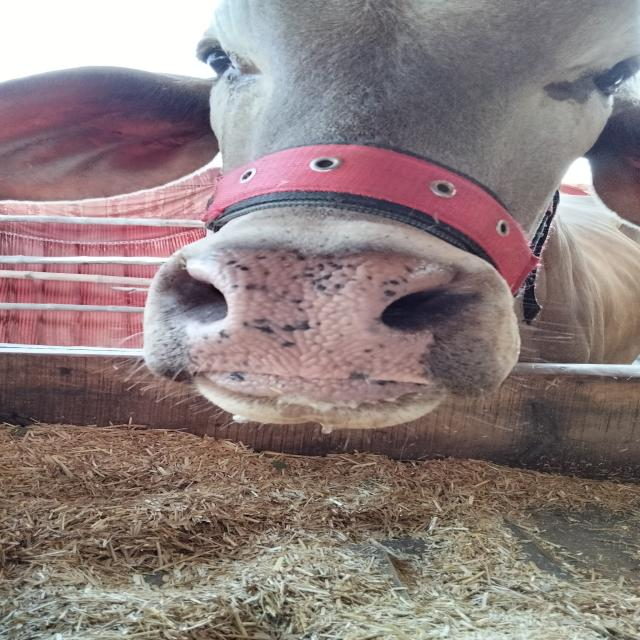muzzles: (152, 238, 508, 400)
